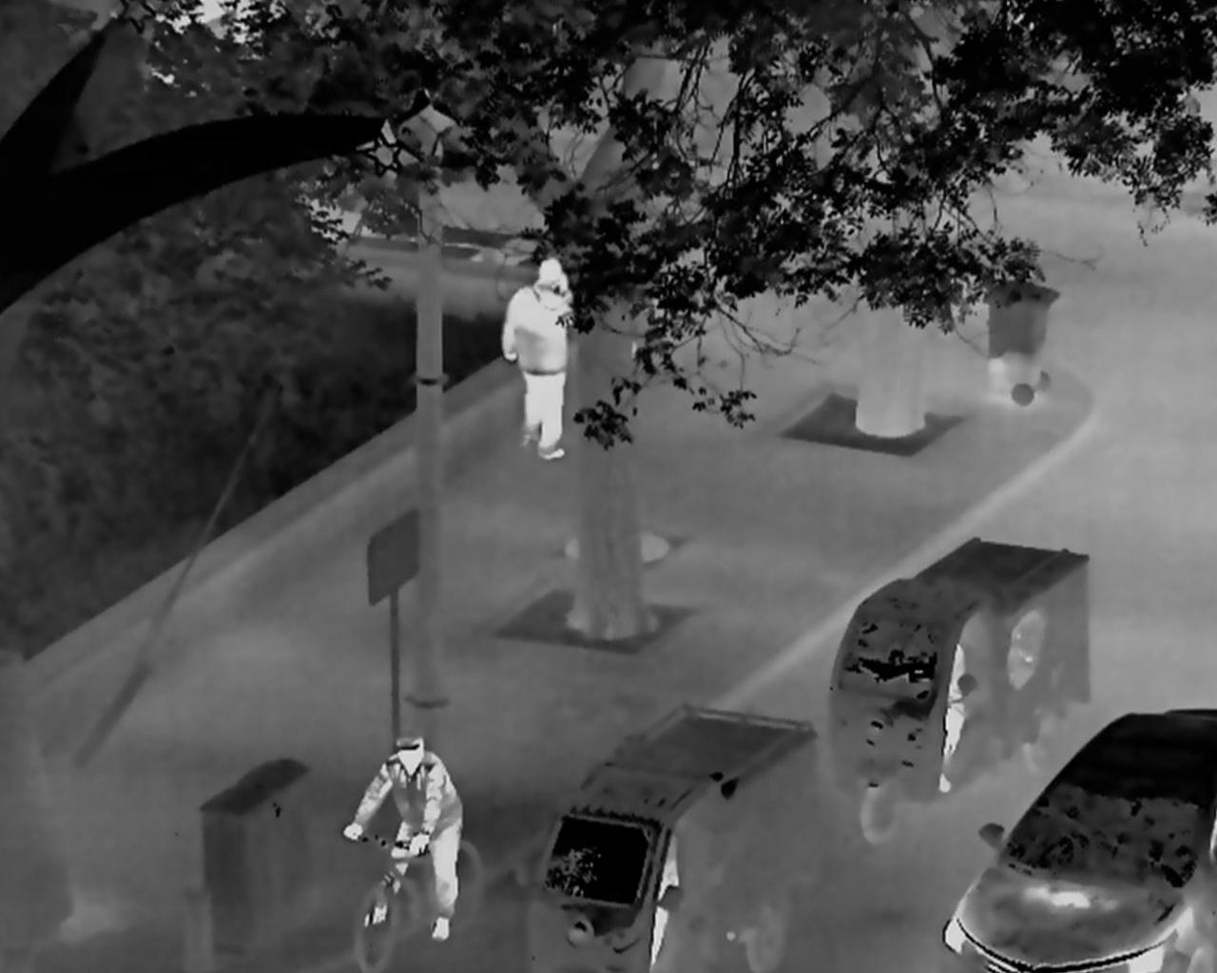person: (343, 729, 464, 942), (500, 256, 574, 460), (937, 640, 966, 792), (650, 830, 681, 965)
